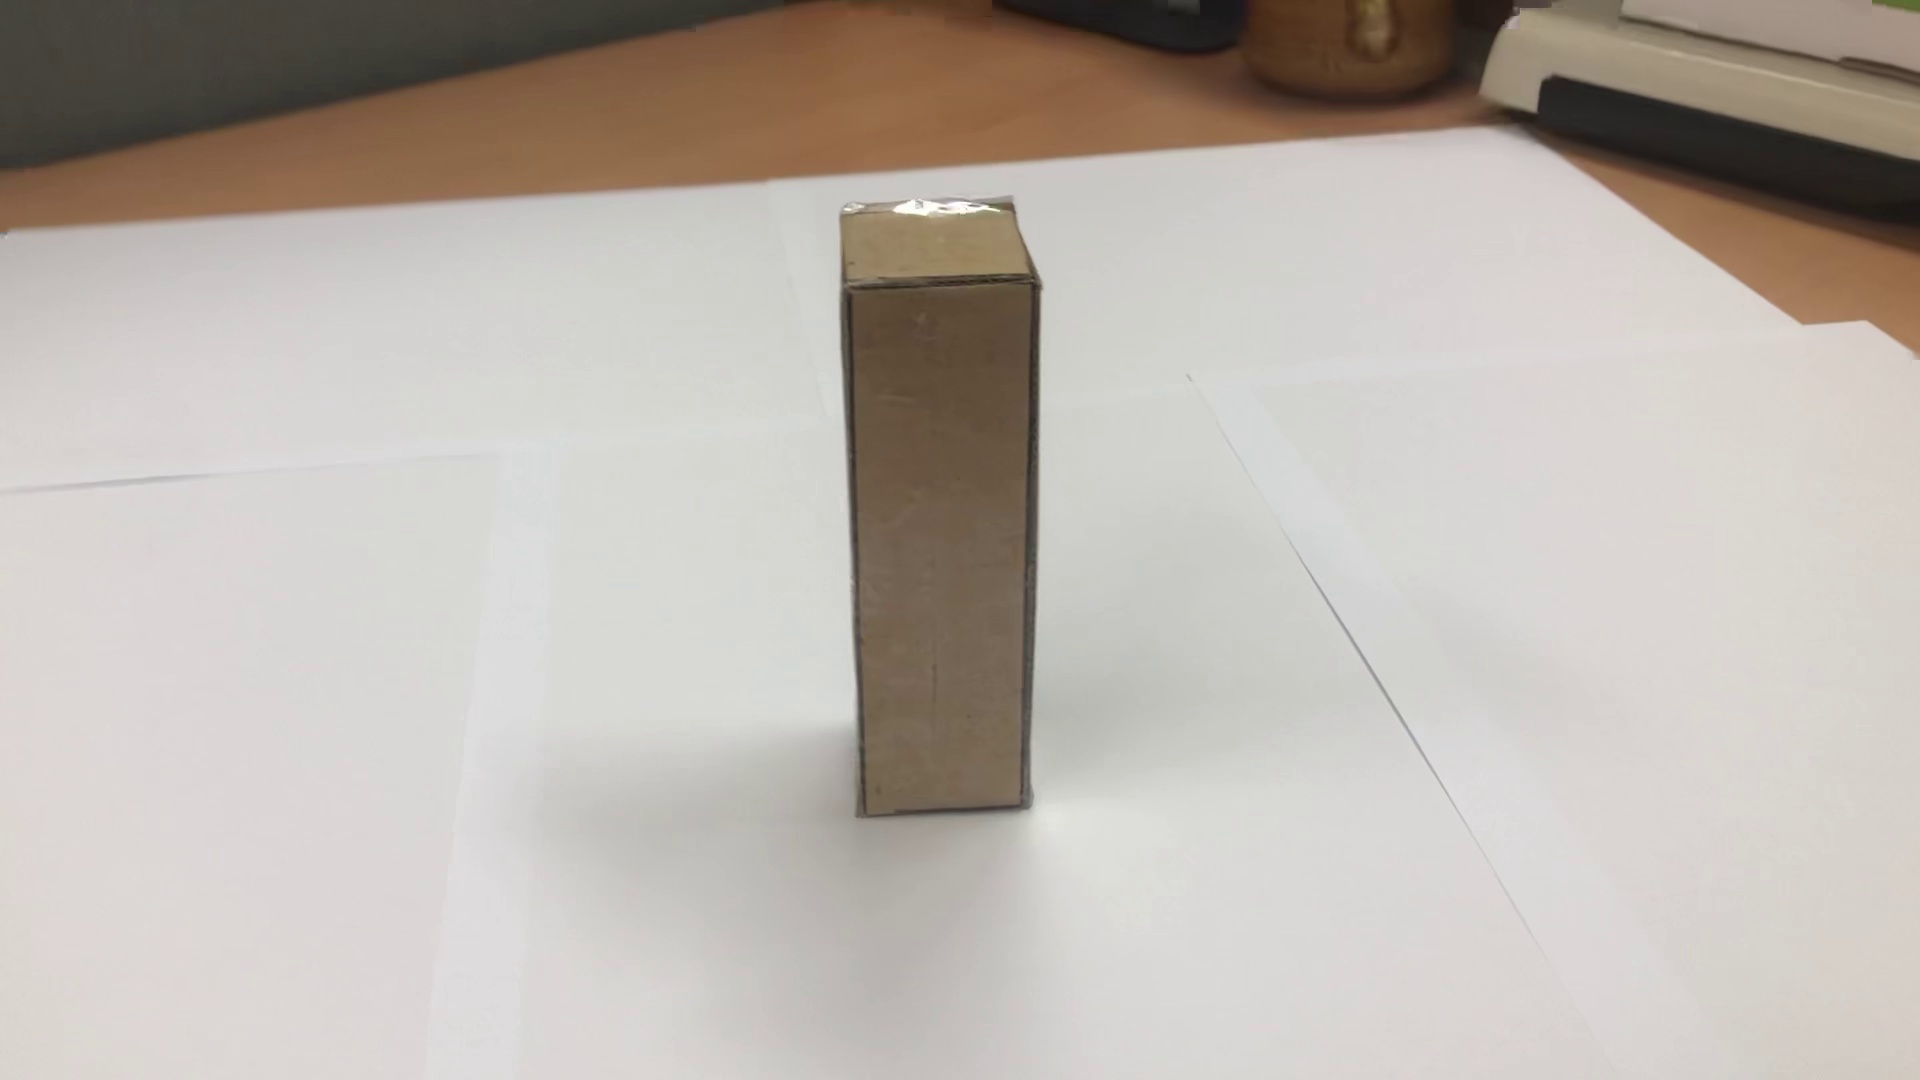box: (825, 189, 1076, 860)
